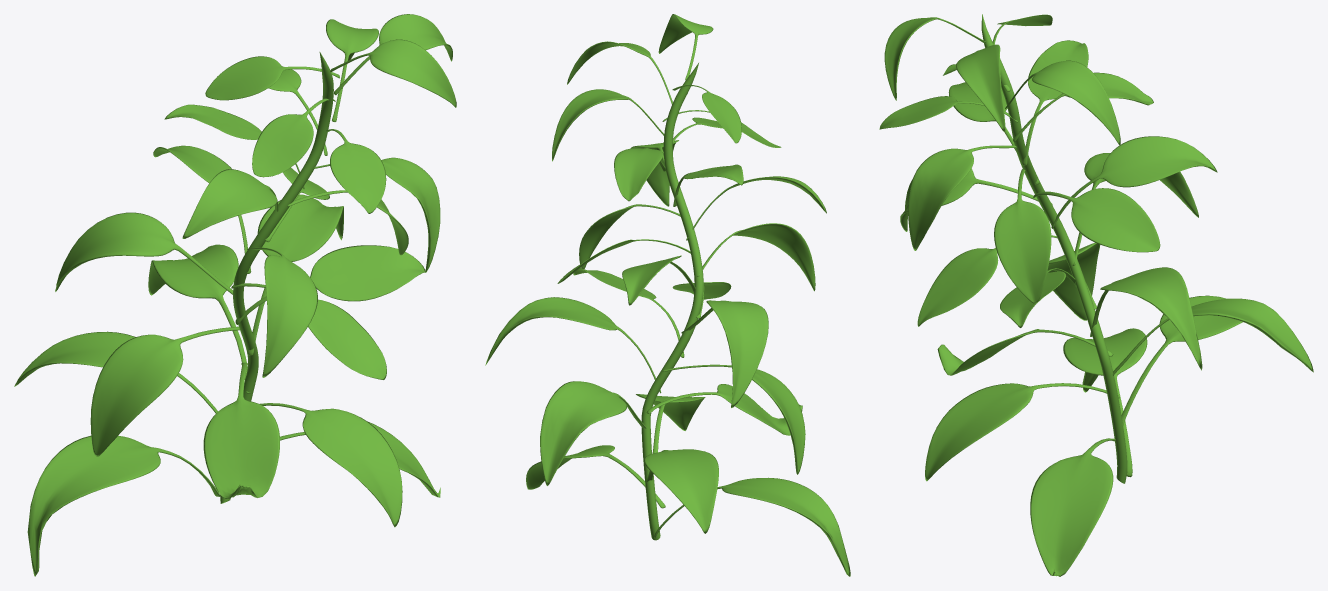
File: Plant1_Large.fbx
3 views of the same model, side by side, from view 1: azimuth 30°, elevation 25°; view 2: azimuth 150°, elevation 25°; view 3: azimuth 270°, elevation 25° (orthographic). The views are drawn at different scales.
Parts seen in each view (by area): view 1: Leaf, Stem; view 2: Leaf, Stem; view 3: Leaf, Stem.
Boxes of the visible parts, bbox=[...] form: Leaf: bbox=[14, 14, 456, 576]; Stem: bbox=[220, 52, 333, 503]; Leaf: bbox=[485, 14, 850, 576]; Stem: bbox=[641, 63, 703, 540]; Leaf: bbox=[879, 14, 1313, 576]; Stem: bbox=[981, 14, 1127, 483].
Bounding box in the file's own units: 986 × 1280 × 994.
